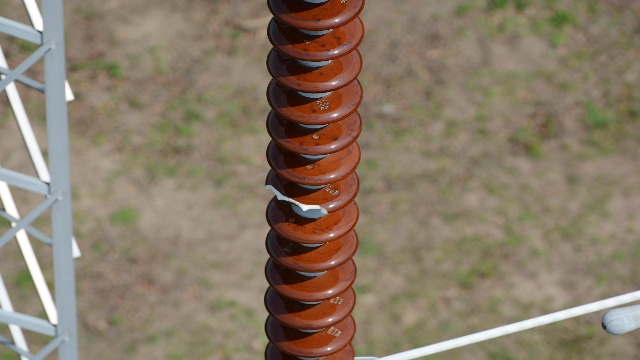broken_local: (264, 178, 331, 217)
insulator_unspecified: (263, 0, 360, 359)
